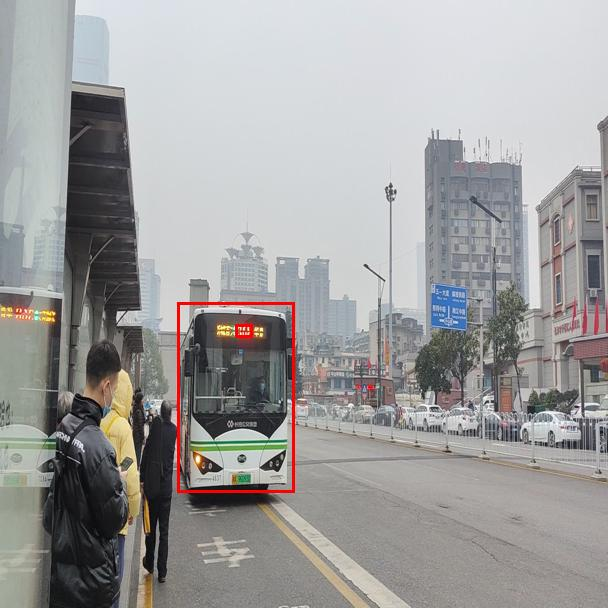bus: (177, 302, 294, 492)
screen: (235, 324, 252, 337)
